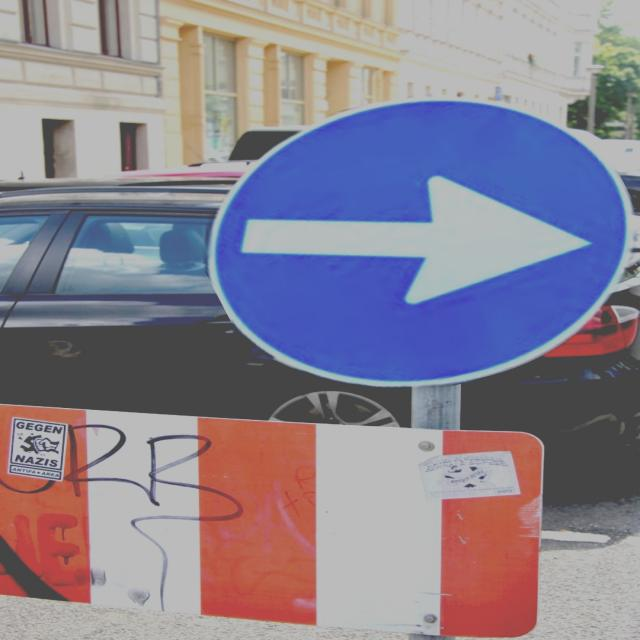Turn Right: (210, 93, 630, 393)
